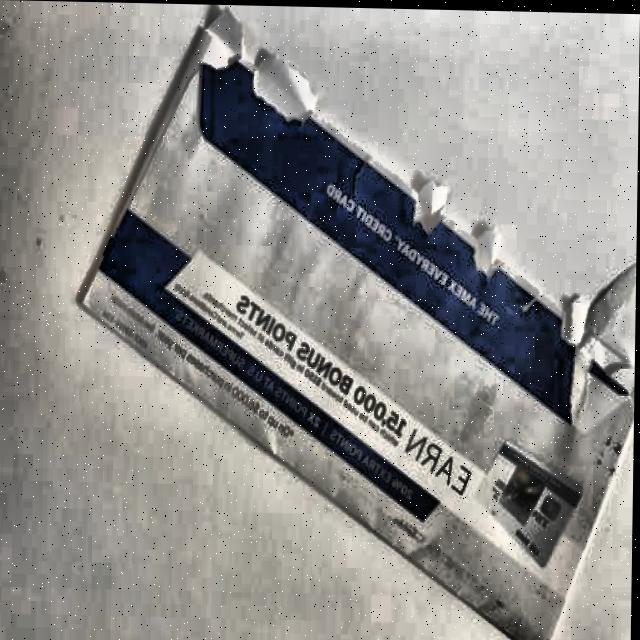paper: (74, 2, 640, 640)
